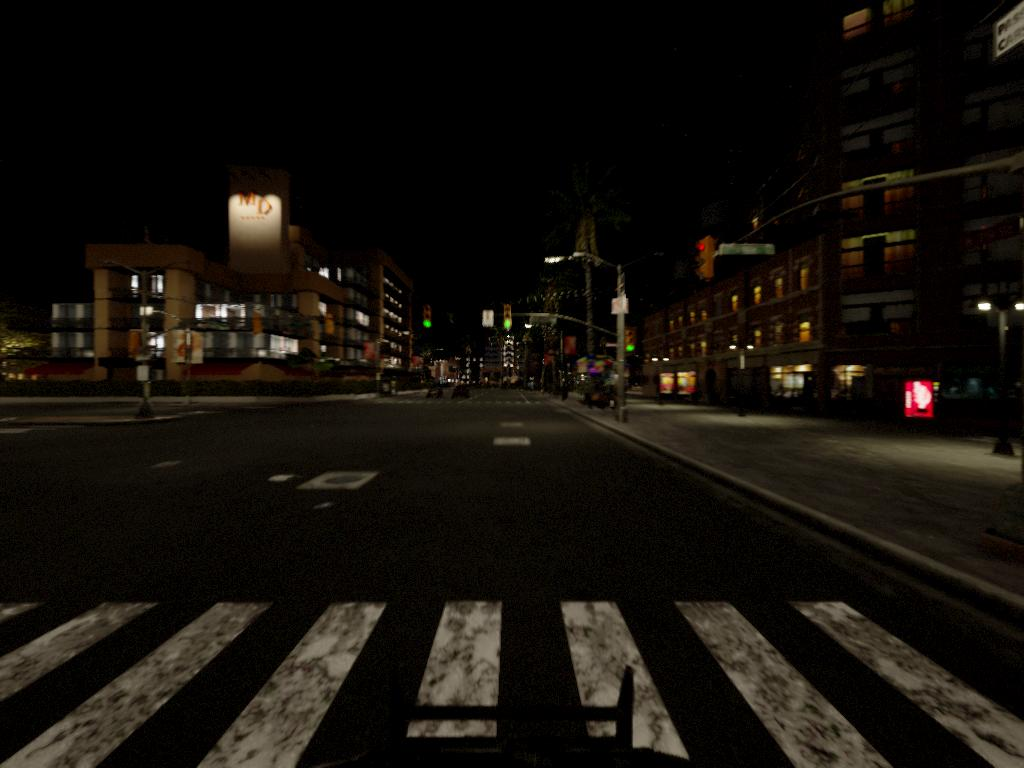traffic_light: (421, 307, 436, 331), (502, 305, 513, 330), (627, 330, 636, 354)
